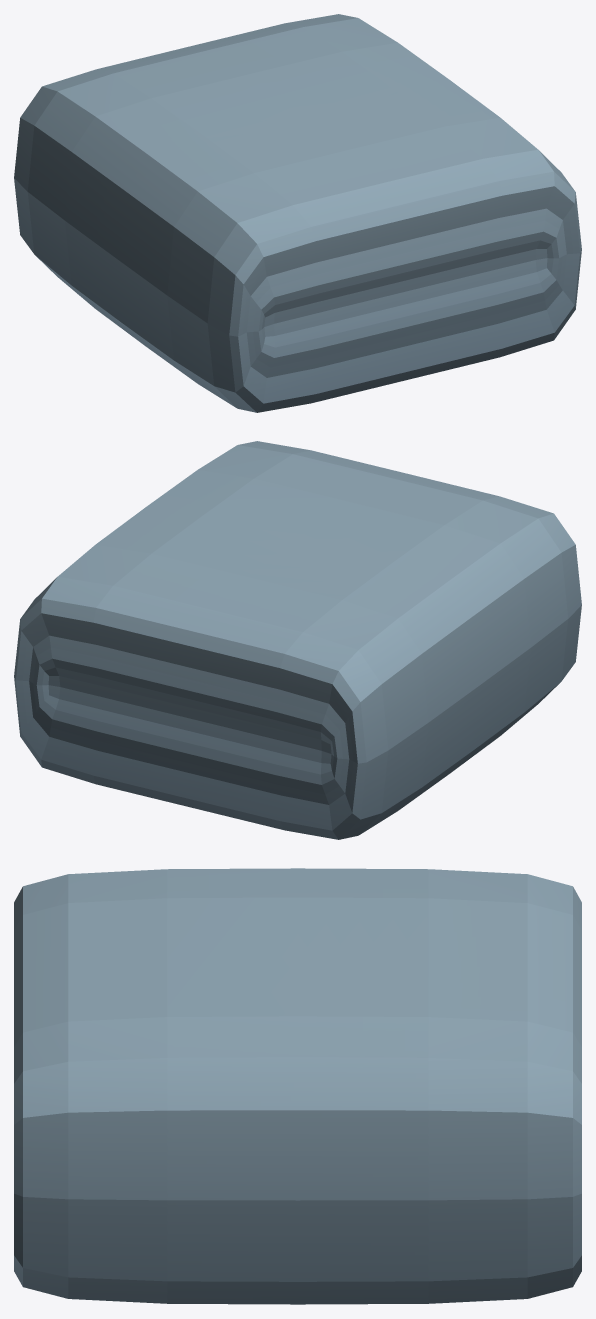
Rendered from Clothes4_C6.fbx.
The picture shows the model from 3 angles, top to bottom: view 1: azimuth 30°, elevation 25°; view 2: azimuth 150°, elevation 25°; view 3: azimuth 270°, elevation 25°; orthographic projection. The views are drawn at different scales.
Visible parts, largest first — view 1: Clothes4_C6; view 2: Clothes4_C6; view 3: Clothes4_C6.
Part boxes in pixels (<box>): Clothes4_C6: <box>14,14,581,412</box>; Clothes4_C6: <box>14,441,581,839</box>; Clothes4_C6: <box>14,868,581,1304</box>.
Bounding box in the file's own units: 22.53 × 11.96 × 23.8.
